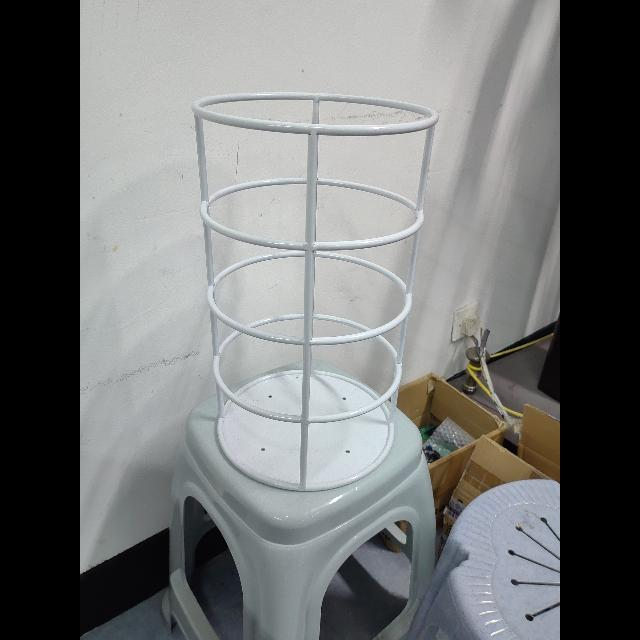S: (188, 89, 440, 498)
